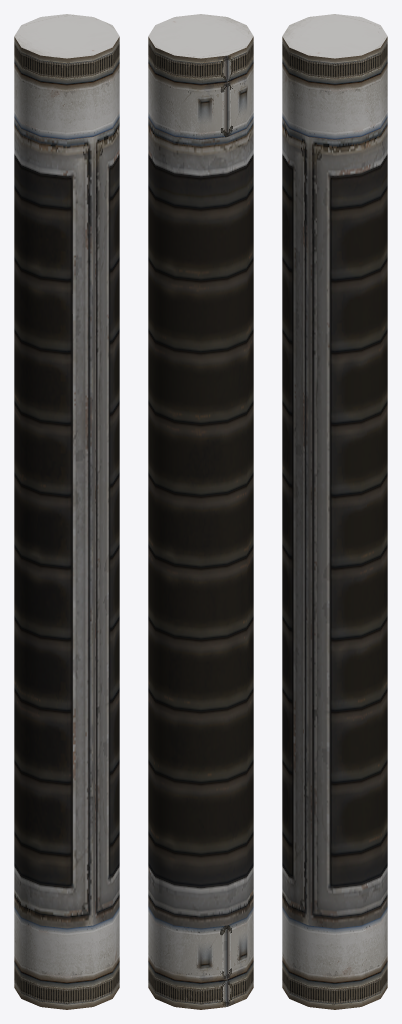
Rendered from scifi_pipe_small_3.FBX.
The picture shows the model from 3 angles, left to right: view 1: azimuth 30°, elevation 25°; view 2: azimuth 210°, elevation 25°; view 3: azimuth 330°, elevation 25°; orthographic projection.
Parts seen in each view (by area): view 1: Cylinder025; view 2: Cylinder025; view 3: Cylinder025.
Part boxes in pixels (x1,y1,x2,y2): Cylinder025: (14, 14, 119, 1009); Cylinder025: (148, 14, 253, 1009); Cylinder025: (282, 14, 387, 1009).
Size of the model in its own units: 25.53 by 254 by 25.53.
